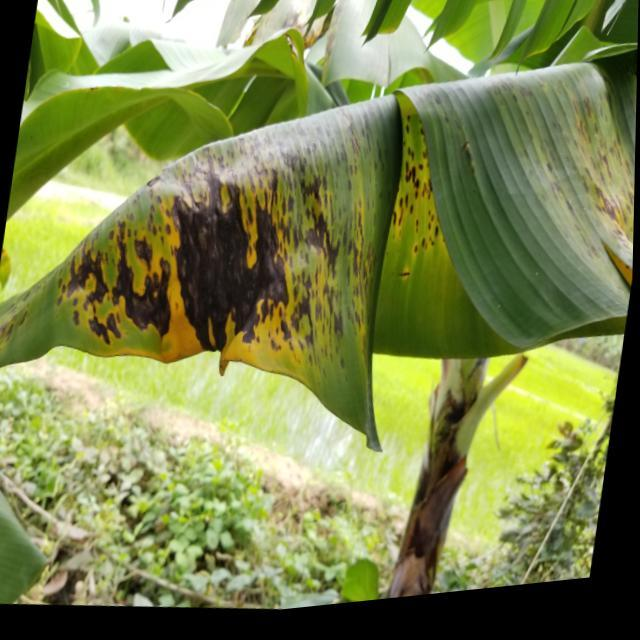Early_rust: (0, 46, 640, 421)
